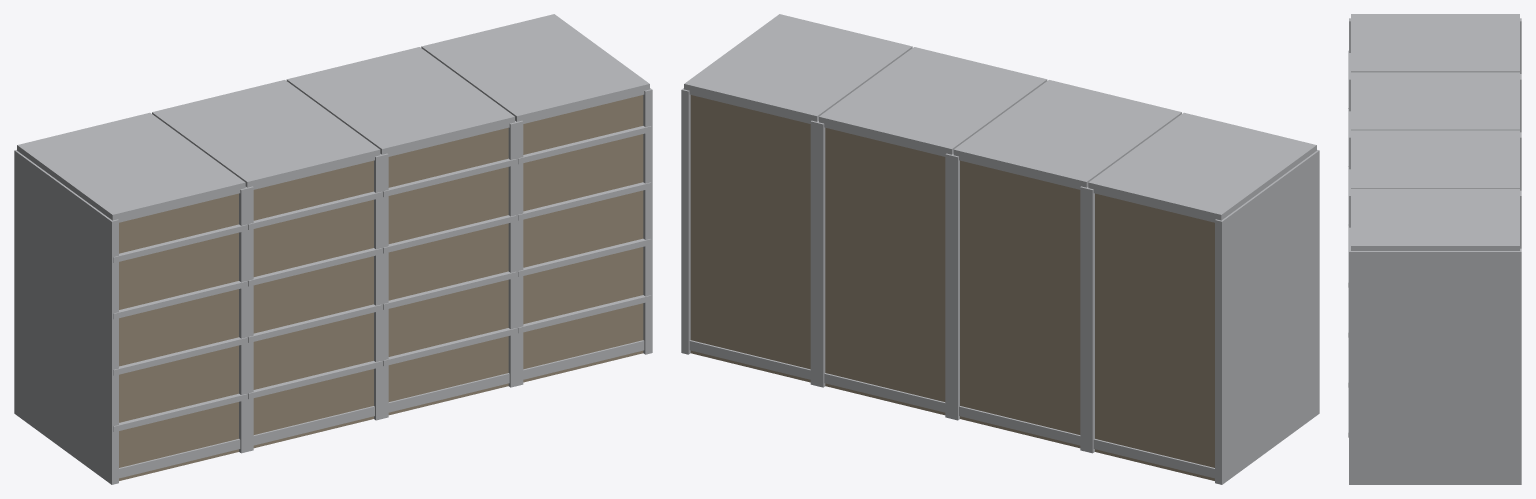
3 views of the same model, side by side, from view 1: azimuth 30°, elevation 25°; view 2: azimuth 150°, elevation 25°; view 3: azimuth 270°, elevation 25° (orthographic). The views are drawn at different scales.
Parts seen in each view (by area): view 1: basket-wall-straight; view 2: basket-wall-straight; view 3: basket-wall-straight.
Part boxes in pixels (box(x1,y1,x2,y2)): basket-wall-straight: box(14, 14, 652, 484); basket-wall-straight: box(681, 14, 1319, 484); basket-wall-straight: box(1348, 14, 1521, 484).
Bounding box in the file's own units: 3.01 × 1.43 × 0.9452.
